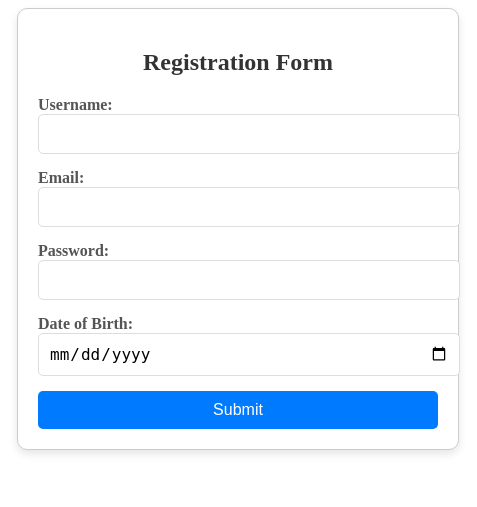
Test: Registration Form › should not be able to fill form with empty email
Expected: the heading "Registration Form" is shown, x1=143 y1=49 x2=333 y2=75
Step 1. Type "vardas" into the field named "username" below "Username:" → (249, 134), box x1=38 y1=114 x2=460 y2=154
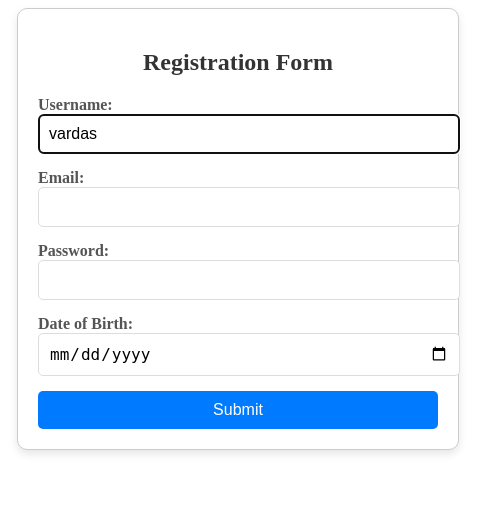
Step 2. Type "123456" into the password field named "password" → (249, 280), box x1=38 y1=260 x2=460 y2=300
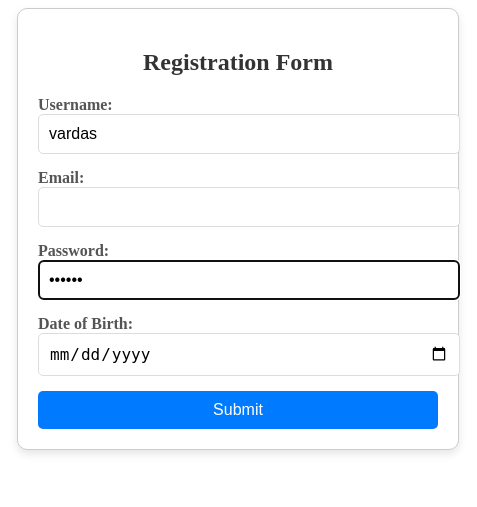
Step 3. Type "1985-01-09" into the date field with test id "dob-input" → (249, 355), box x1=38 y1=333 x2=460 y2=376
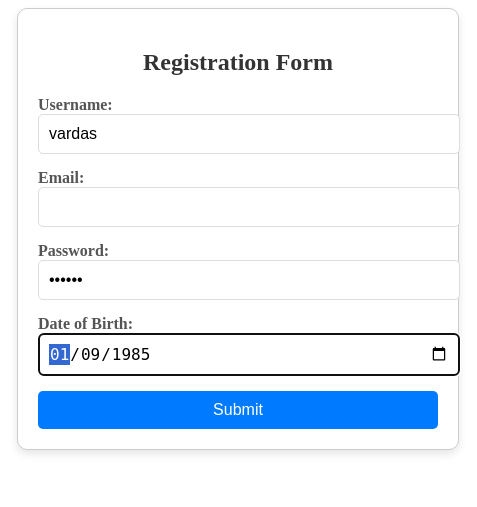
Step 4. Click the button "Submit" → (238, 410), box x1=38 y1=391 x2=438 y2=429
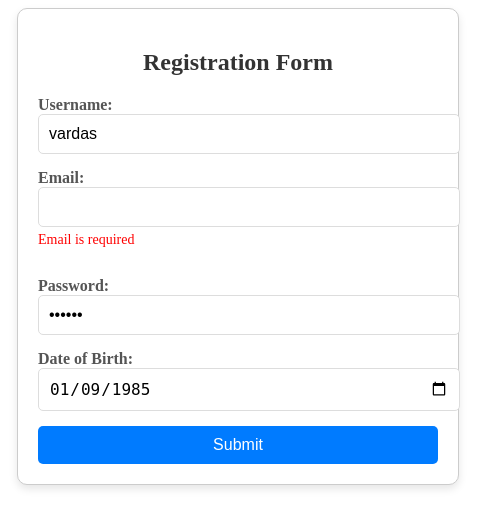
Expected: the text "Email is required" is shown, x1=38 y1=232 x2=134 y2=247
